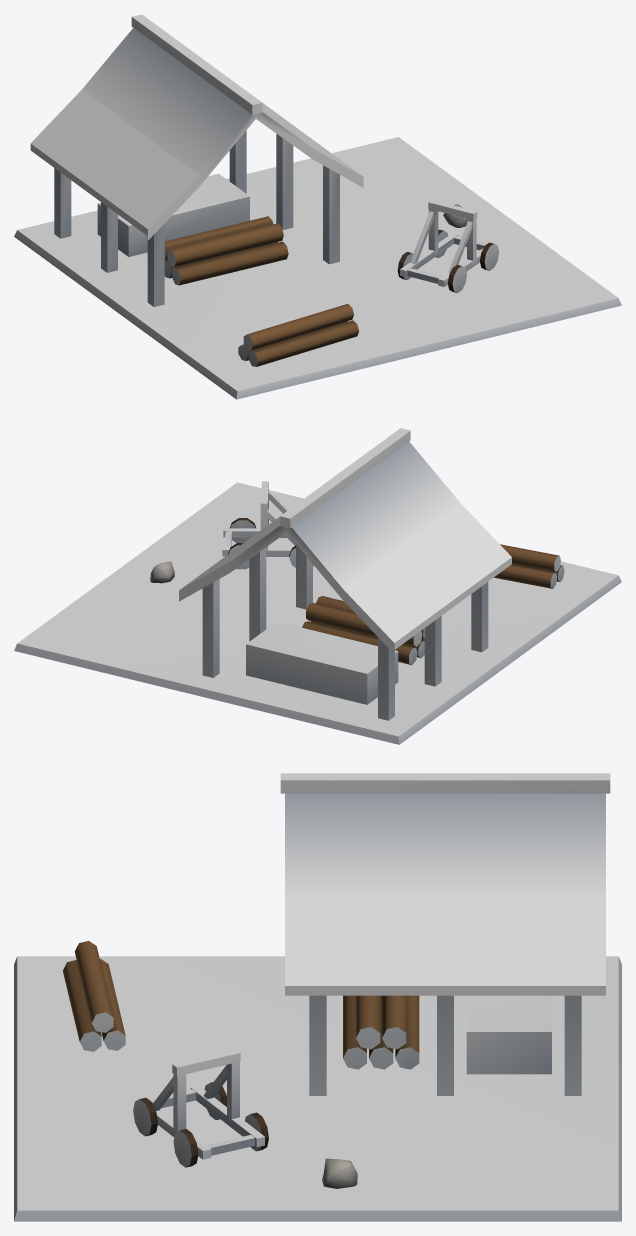
The model's file is siege_workshop_t1.glb.
The picture shows the model from 3 angles, top to bottom: view 1: azimuth 30°, elevation 25°; view 2: azimuth 150°, elevation 25°; view 3: azimuth 270°, elevation 25°; orthographic projection. The views are drawn at different scales.
Parts seen in each view (by area): view 1: siege_workshop_t1; view 2: siege_workshop_t1; view 3: siege_workshop_t1.
Boxes of the visible parts, box(x1,y1,x2,y2) form: siege_workshop_t1: box(14, 14, 621, 399); siege_workshop_t1: box(14, 428, 621, 744); siege_workshop_t1: box(14, 773, 621, 1221).
Bounding box in the file's own units: 2.86 × 1.38 × 2.86.
